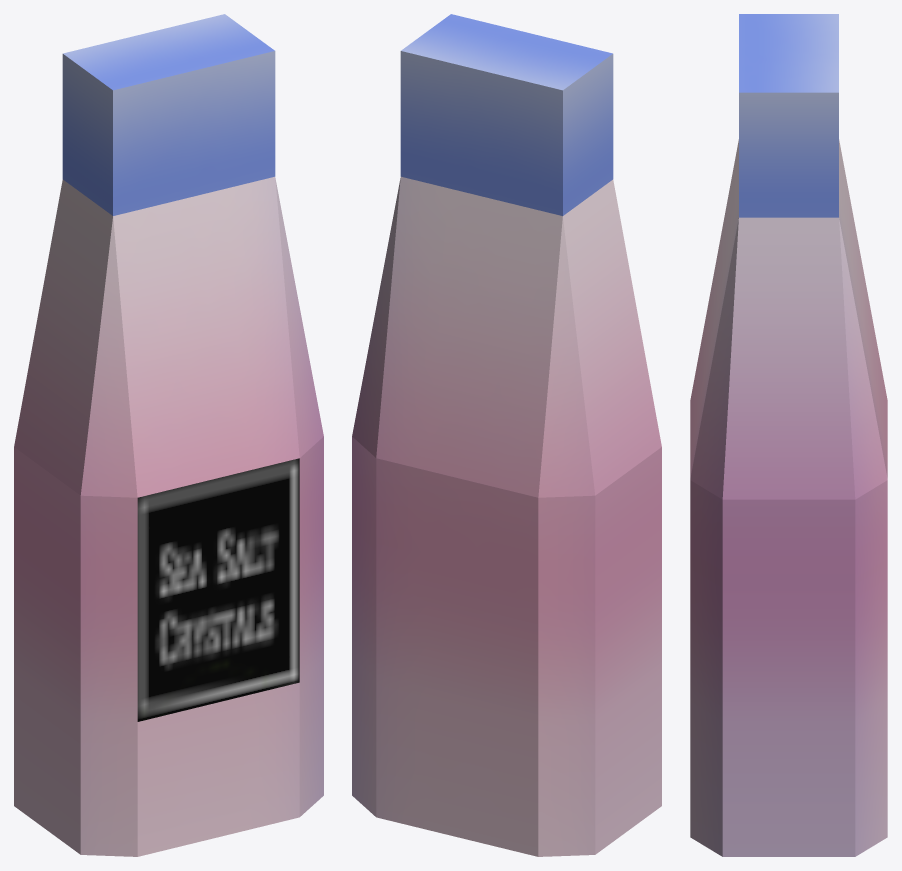
The model's file is giftgoods108c.fbx.
The picture shows the model from 3 angles, left to right: view 1: azimuth 30°, elevation 25°; view 2: azimuth 150°, elevation 25°; view 3: azimuth 270°, elevation 25°; orthographic projection.
Parts seen in each view (by area): view 1: giftgoods108c; view 2: giftgoods108c; view 3: giftgoods108c.
Boxes of the visible parts, left/top/right/bottom form: giftgoods108c: left=14, top=14, right=323, bottom=856; giftgoods108c: left=352, top=14, right=661, bottom=856; giftgoods108c: left=690, top=14, right=887, bottom=856.
Size of the model in its own units: 0.0443 by 0.1303 by 0.0313.
